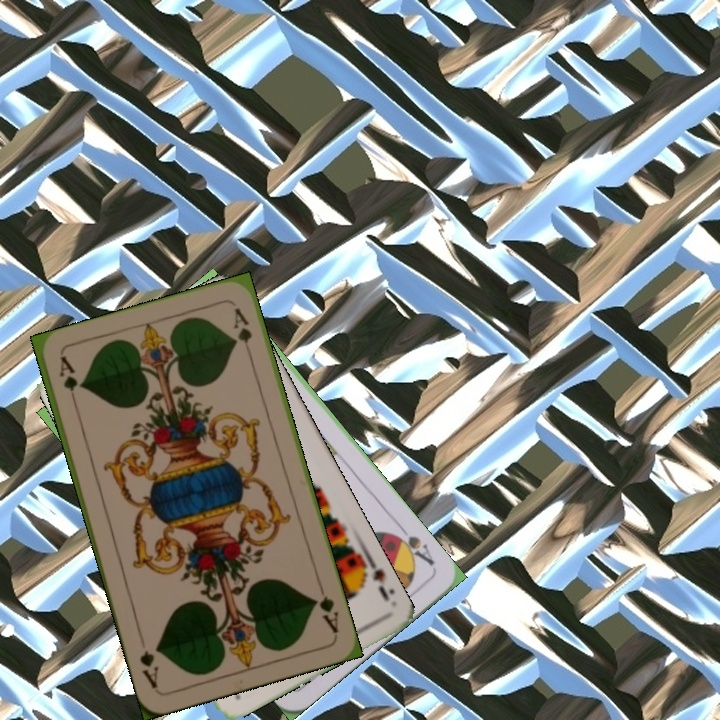GA: (309, 579, 342, 636), (55, 352, 80, 411)
S9: (353, 551, 397, 604)
SA: (387, 521, 437, 569)
